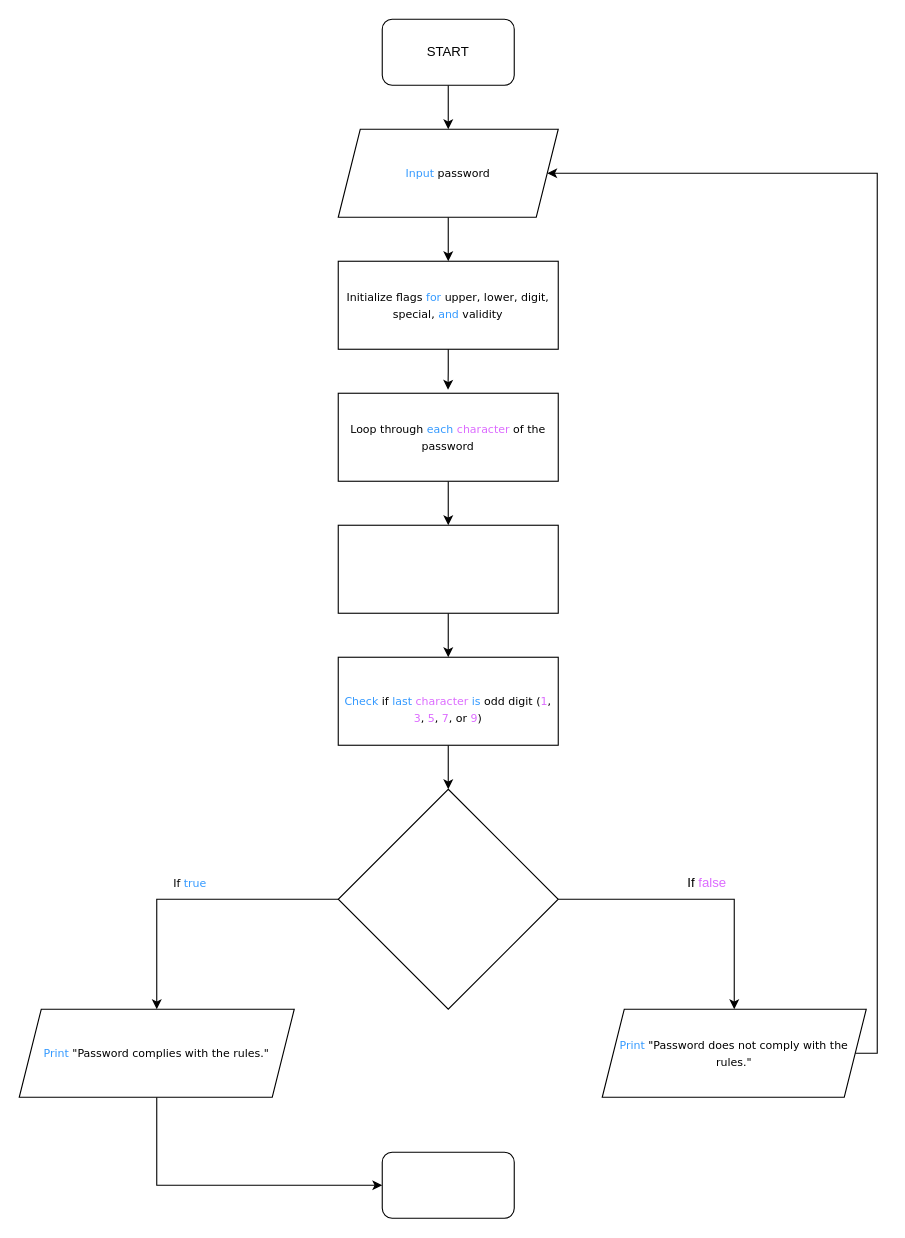
Image size: 905x1238. Some labels were removed from this diagram. The shapes that lost their labels are listed below. From the top down, each one's centre as x and y in pixels, then its label:
pixel 447 568: Check if character is : - Uppercase - Lowercase - Digit - Special character
pixel 447 898: Check if all conditions are met
pixel 447 1184: END
